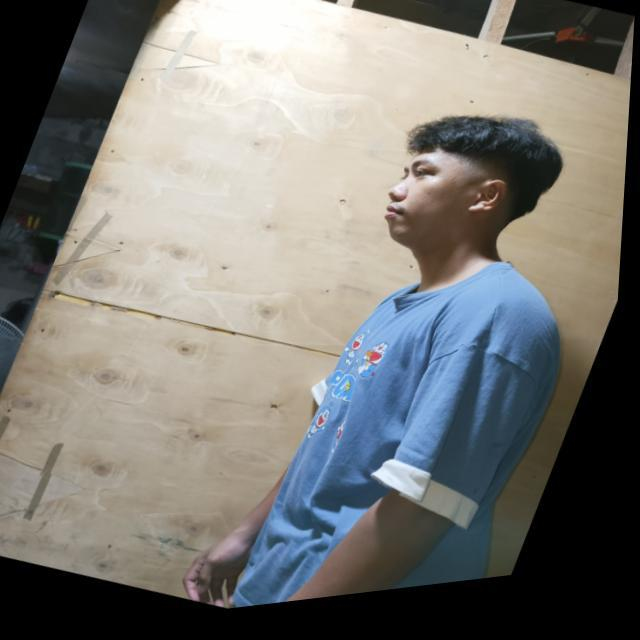Nonhelmet: (369, 104, 569, 270)
